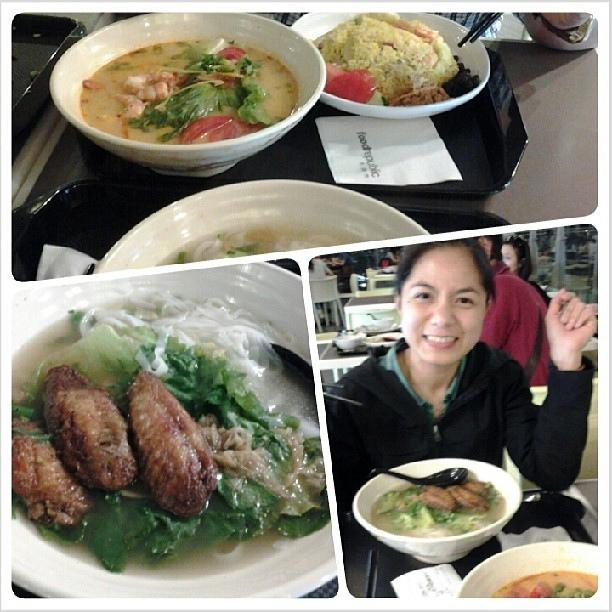lettuce: (139, 336, 301, 462), (128, 82, 252, 142), (428, 507, 458, 525), (404, 502, 427, 520)
